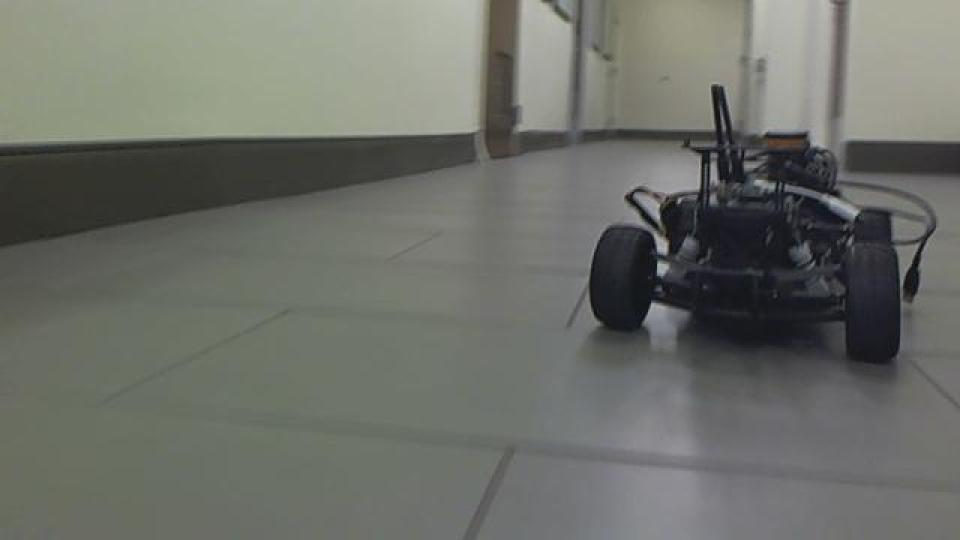car: (576, 81, 939, 366)
